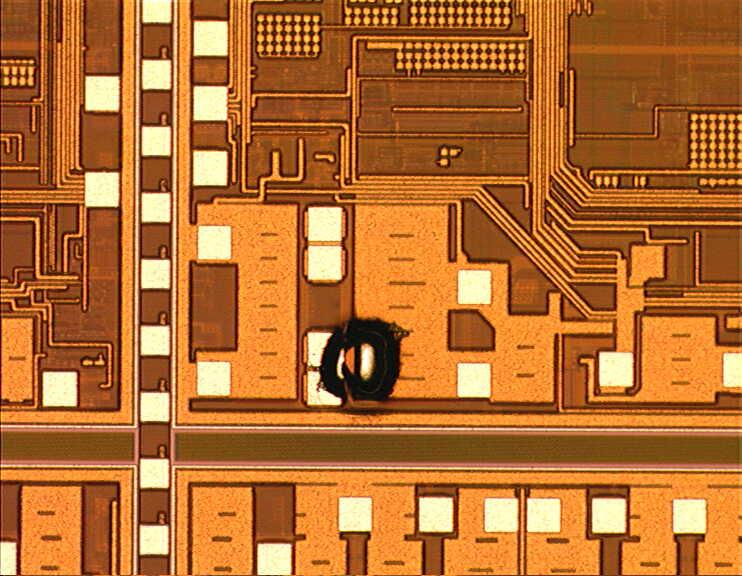PIQ PARTICLE: (314, 313, 411, 412)
